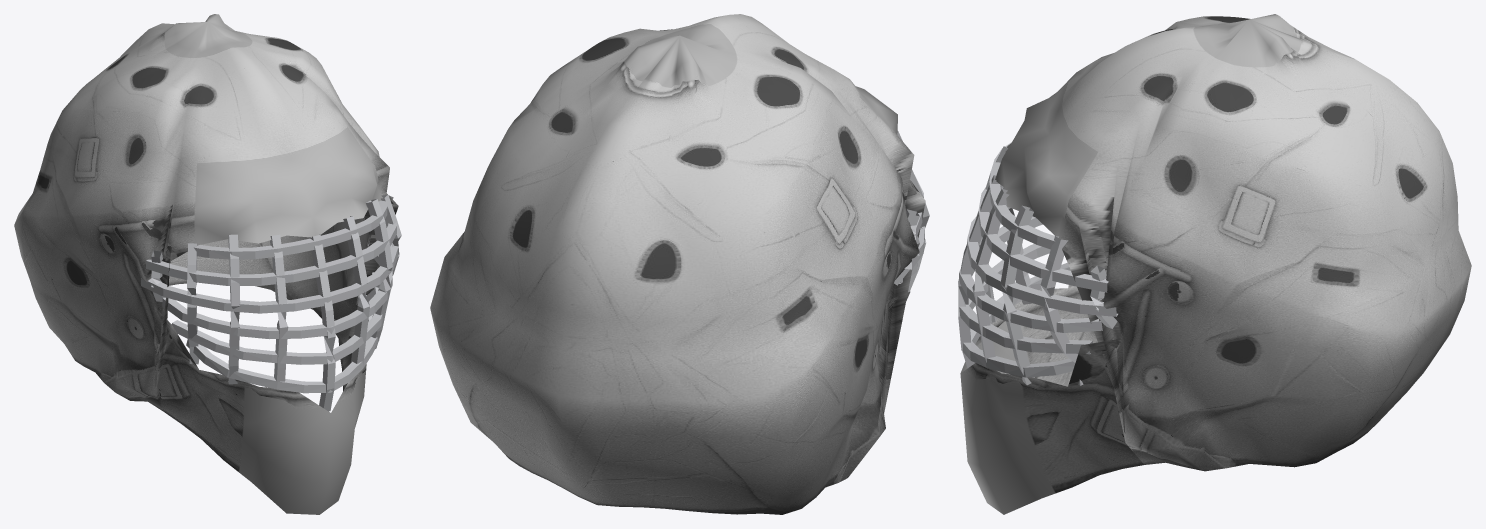
File: casque-gardien.glb
3 renders of one model, left to right at view 1: azimuth 30°, elevation 25°; view 2: azimuth 150°, elevation 25°; view 3: azimuth 270°, elevation 25°, orthographic. The views are drawn at different scales.
Parts seen in each view (by area): view 1: Casque_Gardien; view 2: Casque_Gardien; view 3: Casque_Gardien.
Part boxes in pixels (x1,y1,x2,y2): Casque_Gardien: (14, 14, 401, 514); Casque_Gardien: (430, 14, 929, 514); Casque_Gardien: (958, 14, 1471, 514).
Bounding box in the file's own units: 0.231 × 0.3074 × 0.2959.
Materials: 1 (1 with a texture image).
